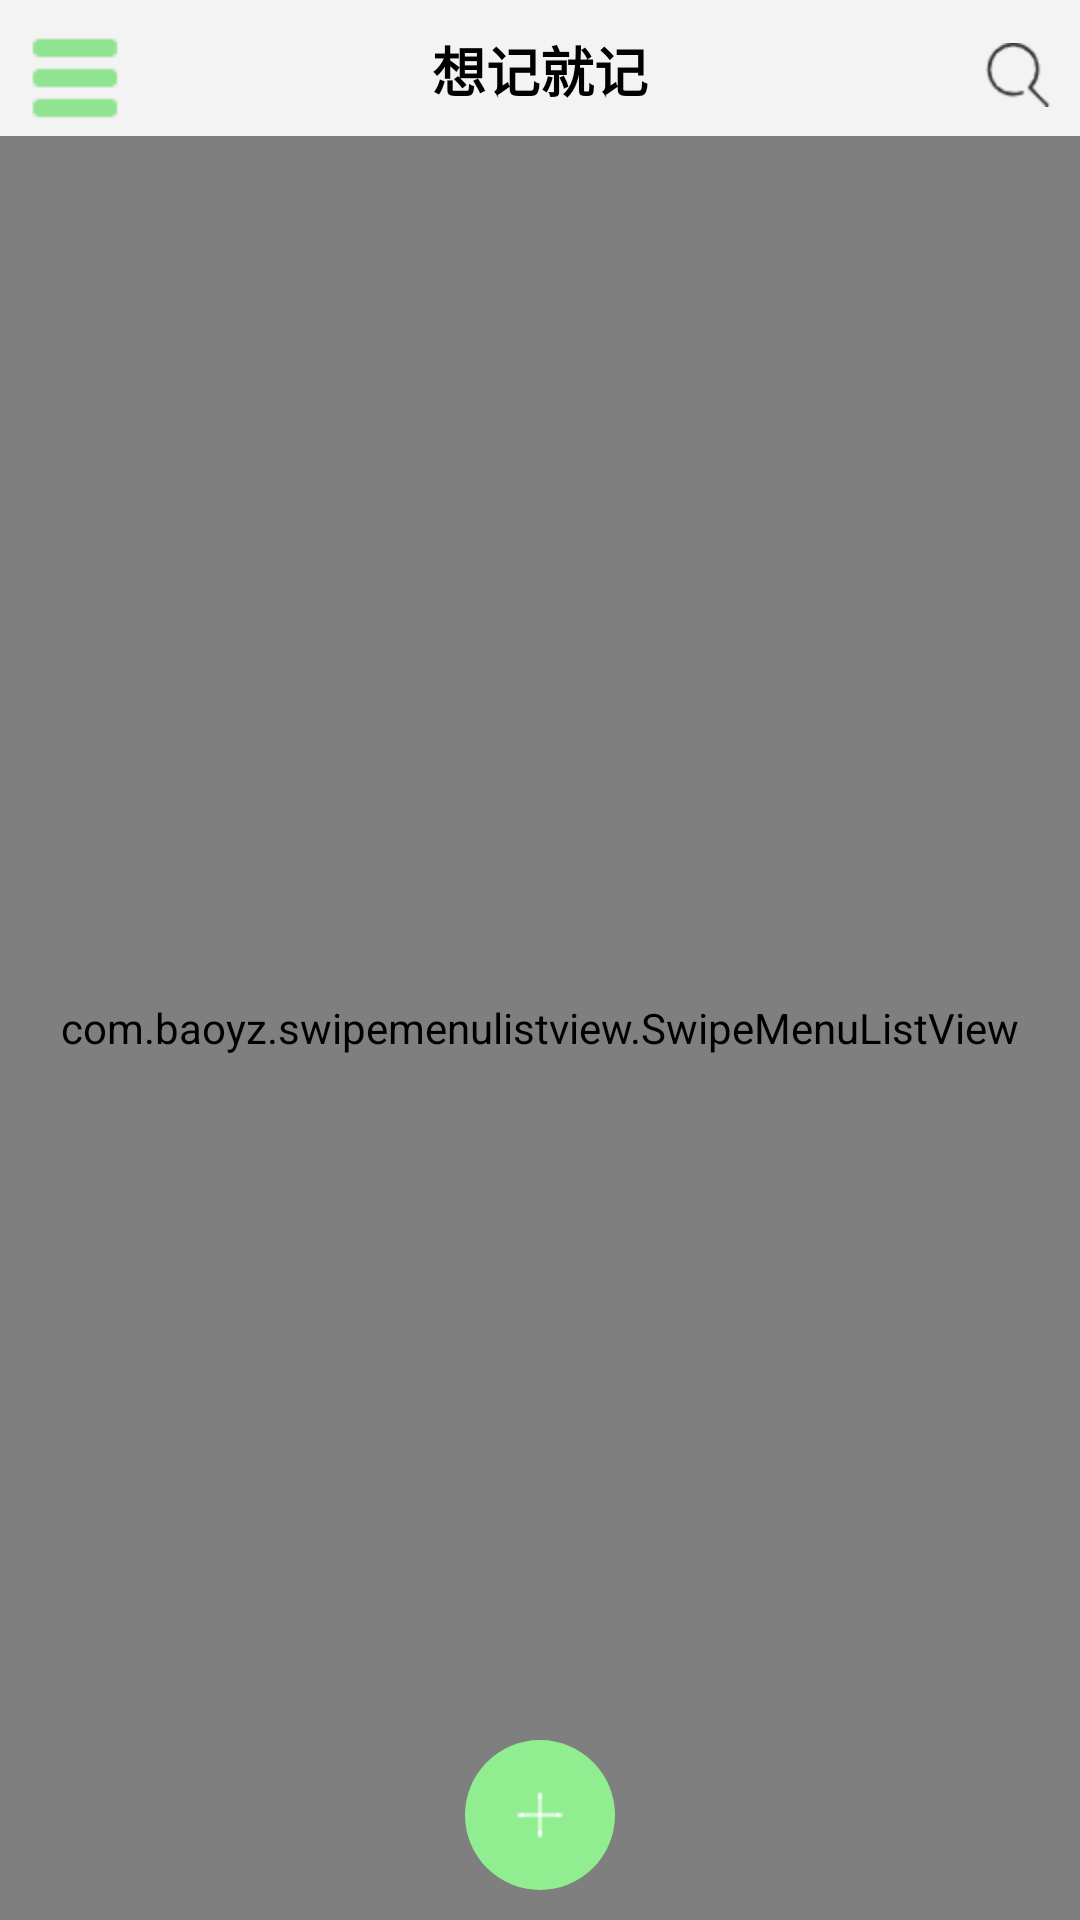

Icons on this 1080px x 1920px Android screen, each with the point to tap as (x=x, y=y):
add: (x=540, y=1815)
search: (x=1018, y=75)
